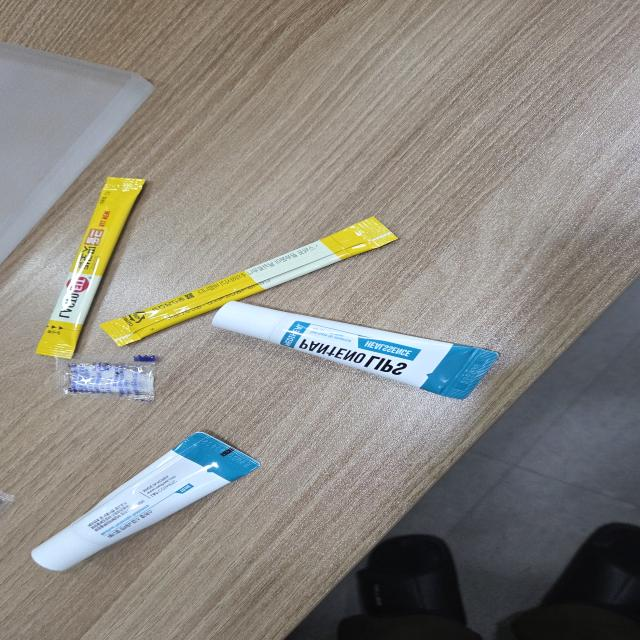lacto: (99, 216, 402, 348), (33, 176, 148, 360)
lib: (21, 431, 263, 572), (214, 299, 502, 401)
salt: (48, 354, 162, 404), (0, 486, 17, 525)
